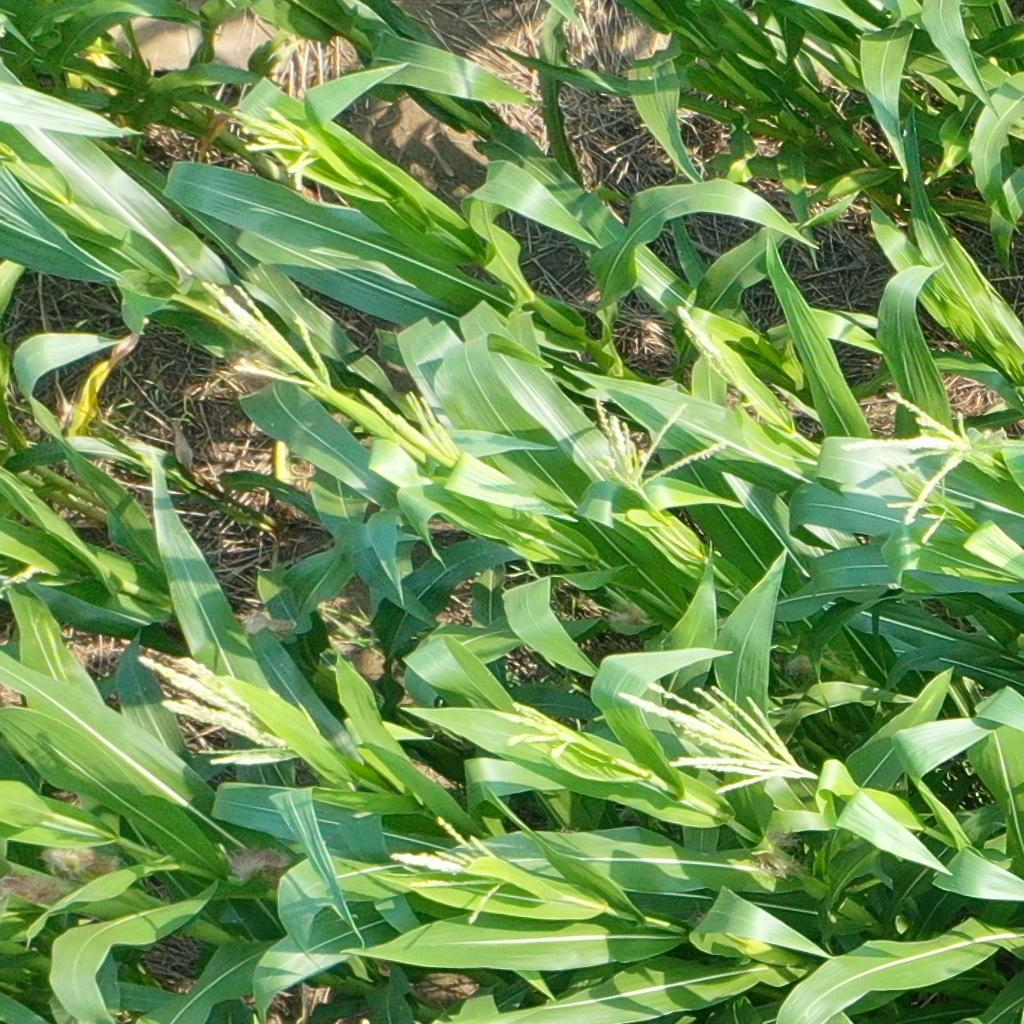Tassel: (614, 677, 827, 802), (137, 645, 305, 768), (834, 386, 981, 526), (580, 393, 730, 503), (197, 272, 335, 391), (387, 815, 520, 923), (228, 96, 323, 188), (359, 383, 465, 458), (881, 454, 954, 541), (671, 301, 738, 386), (498, 700, 572, 762)
